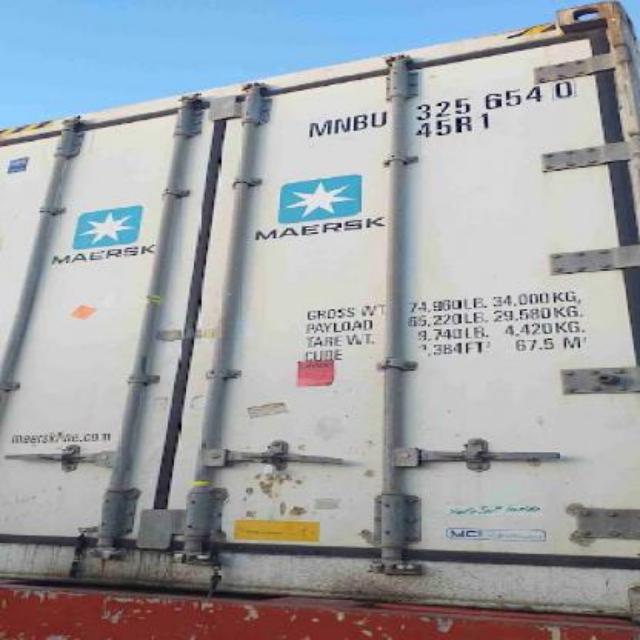0: (552, 78, 584, 100)
2: (436, 90, 452, 118)
3: (410, 101, 438, 122)
4: (524, 82, 548, 105)
5: (502, 85, 524, 108), (452, 92, 470, 116)
6: (480, 88, 504, 110)
B: (348, 110, 369, 132)
M: (304, 112, 330, 138)
N: (328, 110, 349, 136)
U: (367, 109, 388, 133)
